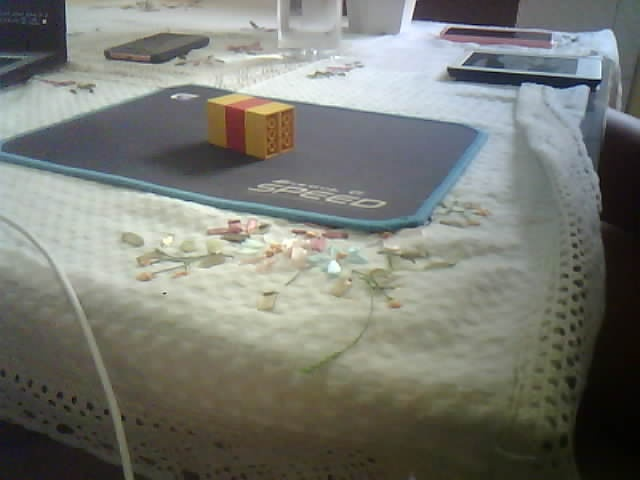lego: (204, 91, 297, 159)
